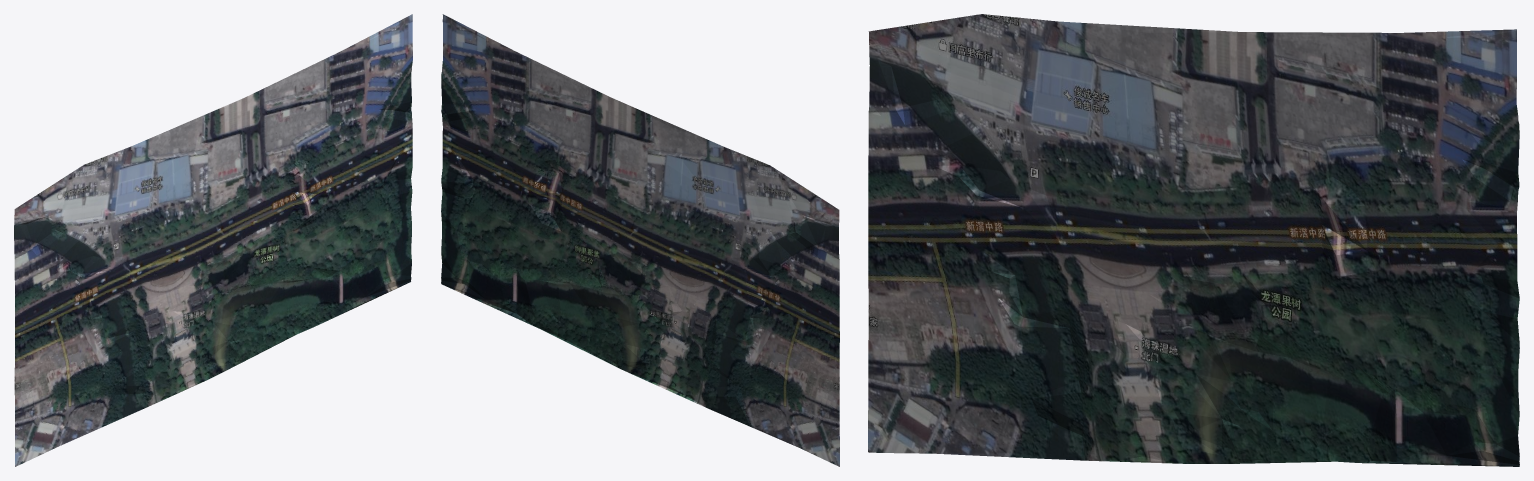
3 renders of one model, left to right at view 1: azimuth 30°, elevation 25°; view 2: azimuth 150°, elevation 25°; view 3: azimuth 330°, elevation 25°, orthographic. The views are drawn at different scales.
Parts seen in each view (by area): view 1: 0_2_2_0_0_1; view 2: 0_2_2_0_0_1; view 3: 0_2_2_0_0_1.
Part boxes in pixels (<box>): 0_2_2_0_0_1: <box>14,14,412,466</box>; 0_2_2_0_0_1: <box>441,14,839,466</box>; 0_2_2_0_0_1: <box>868,14,1519,466</box>.
Bounding box in the file's own units: 486 × 416 × 9.59.
1 material, 1 textured.
